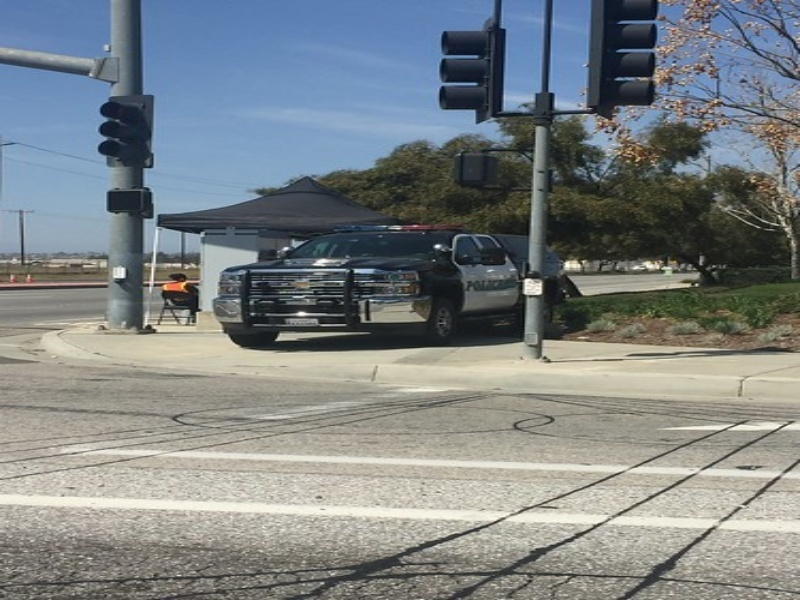policecar: (221, 177, 490, 355)
